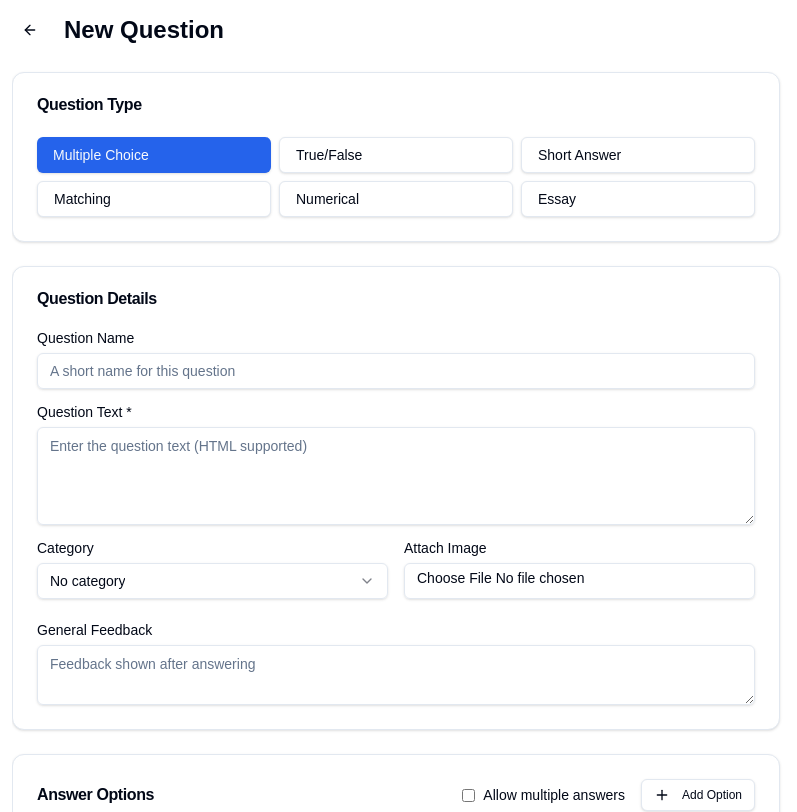
Scenario: QuestionForm › should switch to True/False view when TF selected
# Click True/False type button
Click the button "True/False". click: (396, 155)
box: [279,137,513,173]
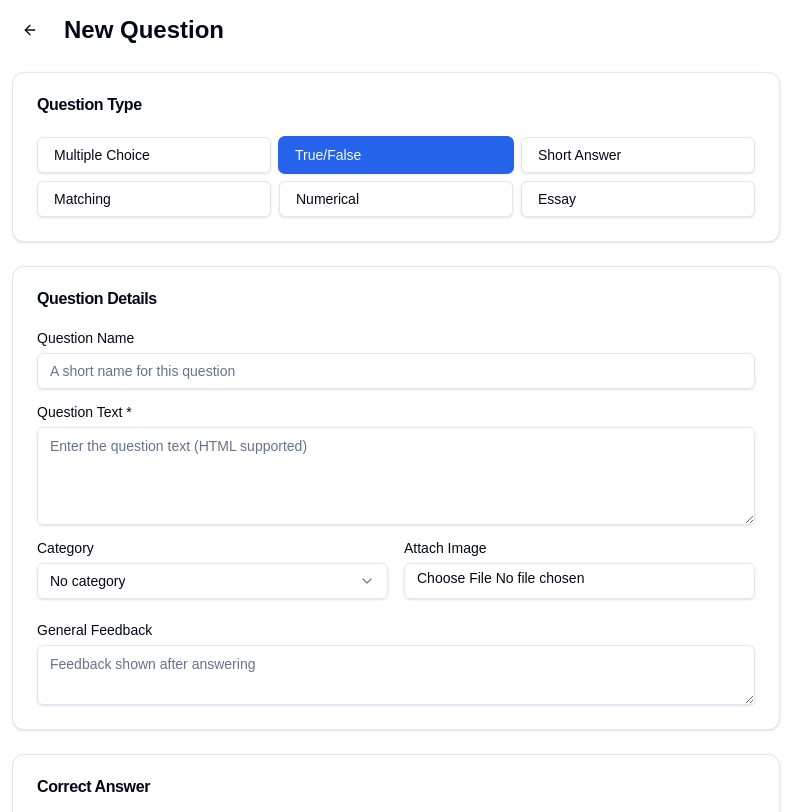
Expected: the text "Correct Answer" is shown, [37,778,150,795]
